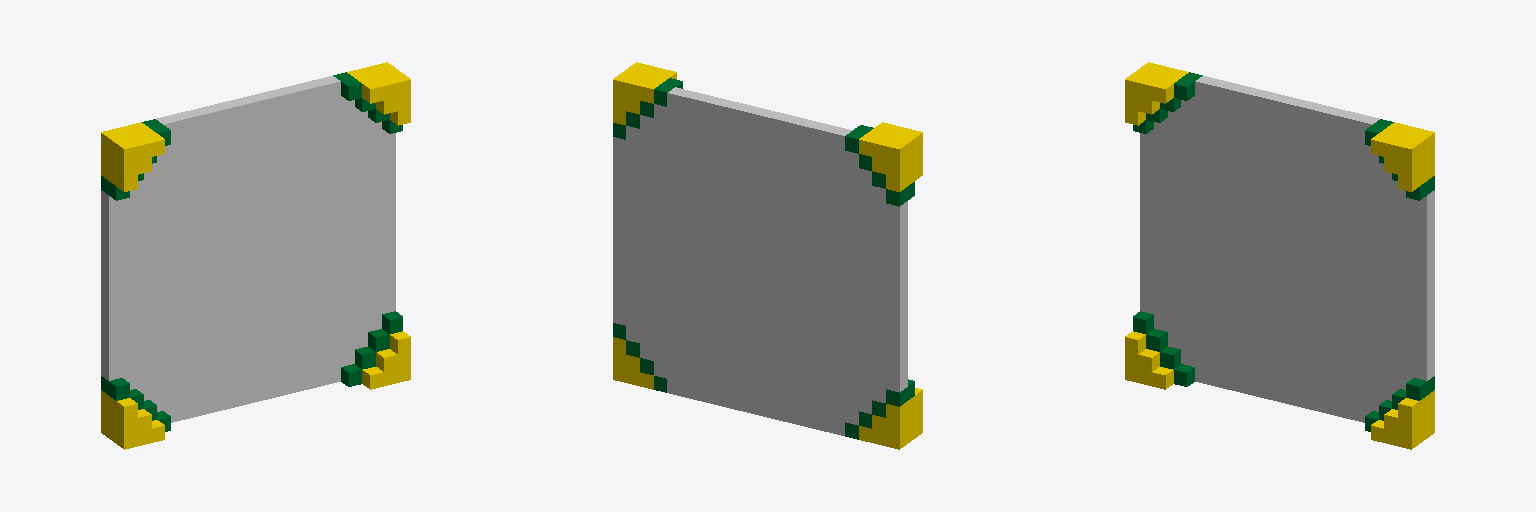
The picture shows the model from 3 angles: view 1: azimuth 30°, elevation 25°; view 2: azimuth 150°, elevation 25°; view 3: azimuth 330°, elevation 25°; orthographic projection.
Parts seen in each view (by area): view 1: object 1; view 2: object 1; view 3: object 1.
Boxes of the visible parts, x1,y1,x2,y2 form: object 1: [101, 62, 410, 449]; object 1: [613, 62, 922, 449]; object 1: [1125, 62, 1434, 449].
Size of the model in its own units: 2.1 by 2.1 by 0.3.
Materials: 1 (1 with a texture image).